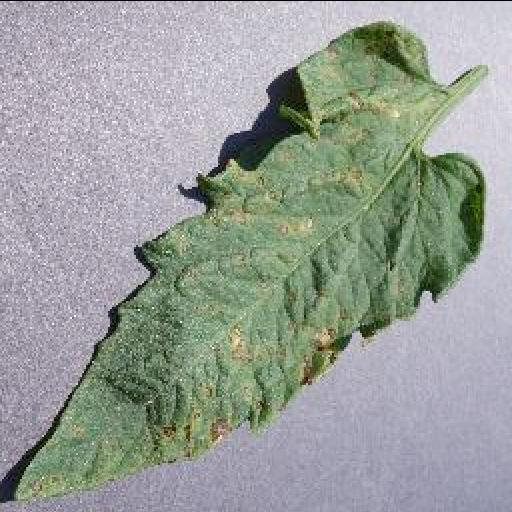disease_tomato: (9, 18, 487, 502)
